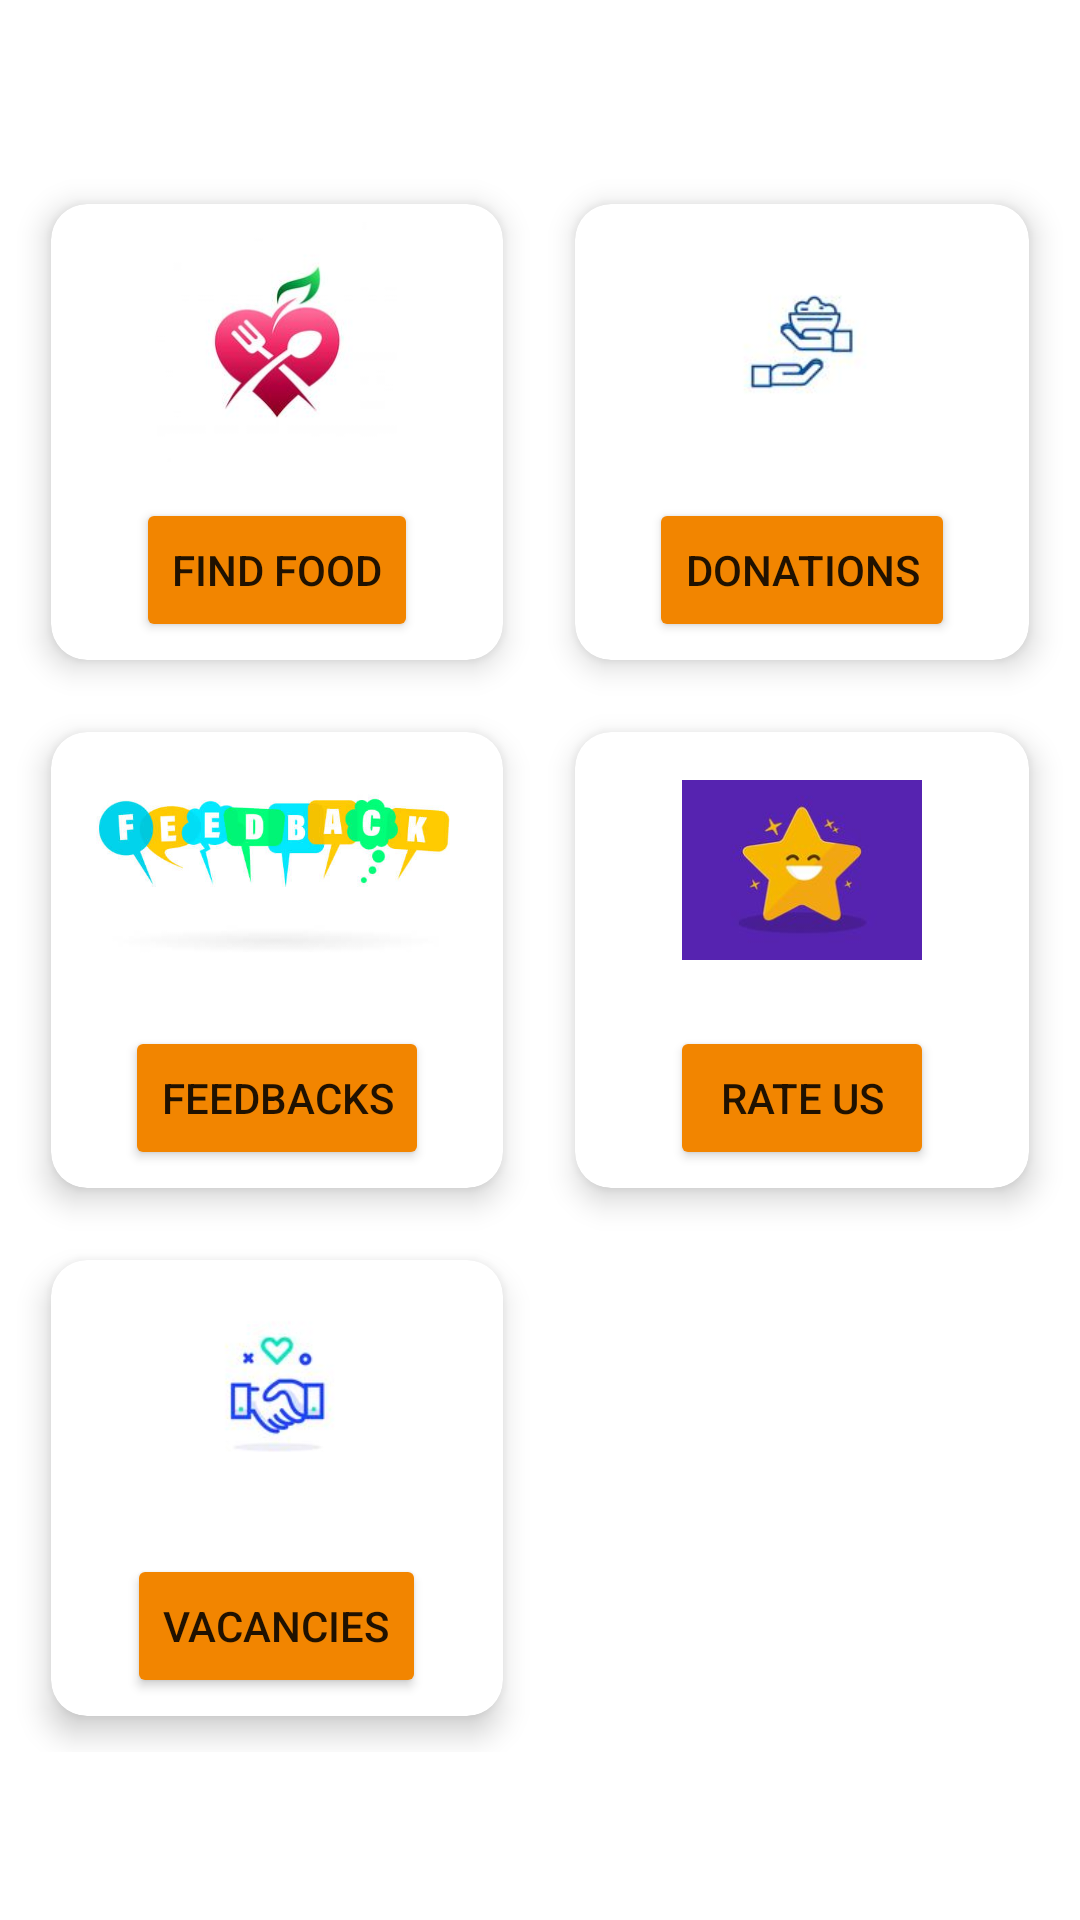

Screen size 1080px x 1920px. Icon name, then its box in pixels as (x1, y1, x2, y2):
joinus: (226, 1336, 325, 1446)
